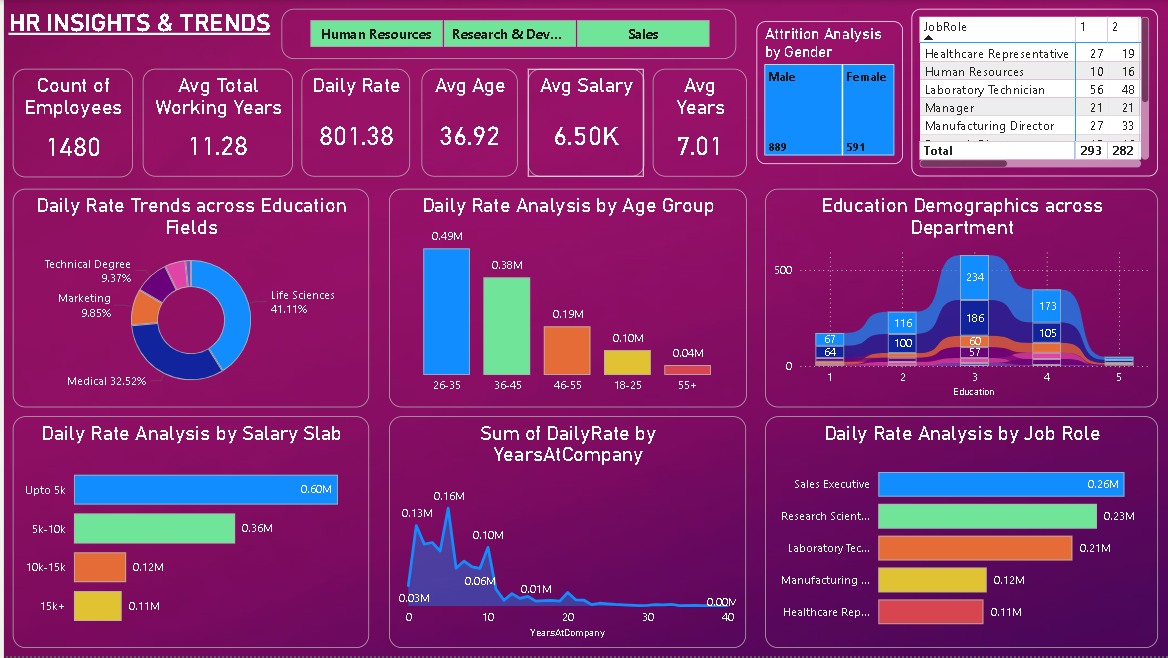

The dashboard page shown, as its layout file describes it:
{"tool":"powerbi","page":{"name":"Page 1","canvas":[1280,720],"ordinal":0},"visuals":[{"type":"textbox","title":"HR INSIGHTS & TRENDS","box":[0,9.6,317,35.7],"z":0},{"type":"slicer","fields":{"Values":["HR_Analytics (2).Department"]},"box":[304.6,9.6,499.5,54.9],"z":1000},{"type":"treemap","title":"Attrition Analysis by Gender","fields":{"Group":["HR_Analytics.Gender"],"Values":["CountNonNull(HR_Analytics.Gender)"]},"box":[826.1,23.3,160.5,156.4],"z":2000},{"type":"pivotTable","fields":{"Rows":["HR_Analytics.JobRole"],"Columns":["HR_Analytics.JobSatisfaction"],"Values":["CountNonNull(HR_Analytics.Attrition)"]},"box":[996.2,9.6,270.3,183.9],"z":3000},{"type":"card","title":"Count of Employees","fields":{"Values":["CountNonNull(HR_Analytics.EmpID)"]},"box":[9.6,75.5,131.7,119.4],"z":4000},{"type":"card","title":"Avg Total Working Years","fields":{"Values":["Avg(HR_Analytics.TotalWorkingYears)"]},"box":[152.3,75.5,164.7,118],"z":5000},{"type":"card","title":"Daily Rate","fields":{"Values":["Avg(HR_Analytics.DailyRate)"]},"box":[326.6,75.5,119.4,118],"z":6000},{"type":"card","title":"Avg Age","fields":{"Values":["Avg(HR_Analytics (2).Age)"]},"box":[458.3,75.5,105.7,118],"z":7000},{"type":"card","title":"Avg Salary","fields":{"Values":["Avg(HR_Analytics (2).MonthlyIncome)"]},"box":[575,75.5,127.6,118],"z":8000},{"type":"card","title":"Avg Years","fields":{"Values":["Avg(HR_Analytics (2).YearsAtCompany)"]},"box":[712.2,75.5,102.9,118],"z":9000},{"type":"donutChart","title":"Daily Rate Trends across Education Fields","fields":{"Category":["HR_Analytics (2).EducationField"],"Y":["Sum(HR_Analytics (2).DailyRate)"]},"box":[9.6,207.2,391.1,240.1],"z":10000},{"type":"columnChart","title":"Daily Rate Analysis by Age Group","fields":{"Category":["HR_Analytics (2).AgeGroup"],"Y":["Sum(HR_Analytics (2).DailyRate)"]},"box":[422.6,207.2,392.5,240.1],"z":11000},{"type":"ribbonChart","title":"Education Demographics across Department ","fields":{"Category":["HR_Analytics (2).Education"],"Y":["CountNonNull(HR_Analytics (2).Department)"],"Series":["HR_Analytics (2).EducationField"]},"box":[835.7,207.2,430.9,240.1],"z":12000},{"type":"barChart","title":"Daily Rate Analysis by Salary Slab","fields":{"Category":["HR_Analytics (2).SalarySlab"],"Y":["Sum(HR_Analytics (2).DailyRate)"]},"box":[10,457,391,254],"z":13000},{"type":"areaChart","fields":{"Category":["HR_Analytics (2).YearsAtCompany"],"Y":["Sum(HR_Analytics (2).DailyRate)"]},"box":[423,457,392,254],"z":14000},{"type":"barChart","title":"Daily Rate Analysis by Job Role","fields":{"Category":["HR_Analytics (2).JobRole"],"Y":["Sum(HR_Analytics (2).DailyRate)"]},"box":[836,457,431,254],"z":15000}]}

Visuals, with their boxes in screenshot pixels (x1, y1, x2, y2), scaled from the page's 1280x720 canvas onto the 1168x658 screenshot:
"HR INSIGHTS & TRENDS" textbox: {"left": 0, "top": 9, "right": 289, "bottom": 41}
slicer - HR_Analytics (2).Department: {"left": 278, "top": 9, "right": 734, "bottom": 59}
"Attrition Analysis by Gender" treemap: {"left": 754, "top": 21, "right": 900, "bottom": 164}
pivotTable - HR_Analytics.JobRole x HR_Analytics.JobSatisfaction: {"left": 909, "top": 9, "right": 1156, "bottom": 177}
"Count of Employees" card: {"left": 9, "top": 69, "right": 129, "bottom": 178}
"Avg Total Working Years" card: {"left": 139, "top": 69, "right": 289, "bottom": 177}
"Daily Rate" card: {"left": 298, "top": 69, "right": 407, "bottom": 177}
"Avg Age" card: {"left": 418, "top": 69, "right": 515, "bottom": 177}
"Avg Salary" card: {"left": 525, "top": 69, "right": 641, "bottom": 177}
"Avg Years" card: {"left": 650, "top": 69, "right": 744, "bottom": 177}
"Daily Rate Trends across Education Fields" donutChart: {"left": 9, "top": 189, "right": 366, "bottom": 409}
"Daily Rate Analysis by Age Group" columnChart: {"left": 386, "top": 189, "right": 744, "bottom": 409}
"Education Demographics across Department " ribbonChart: {"left": 763, "top": 189, "right": 1156, "bottom": 409}
"Daily Rate Analysis by Salary Slab" barChart: {"left": 9, "top": 418, "right": 366, "bottom": 650}
areaChart - HR_Analytics (2).YearsAtCompany x Sum(HR_Analytics (2).DailyRate): {"left": 386, "top": 418, "right": 744, "bottom": 650}
"Daily Rate Analysis by Job Role" barChart: {"left": 763, "top": 418, "right": 1156, "bottom": 650}
